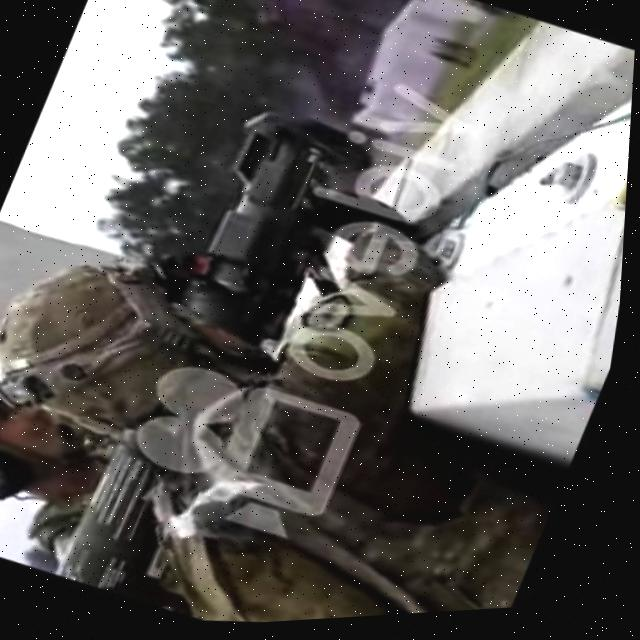rocket: (47, 83, 392, 636)
